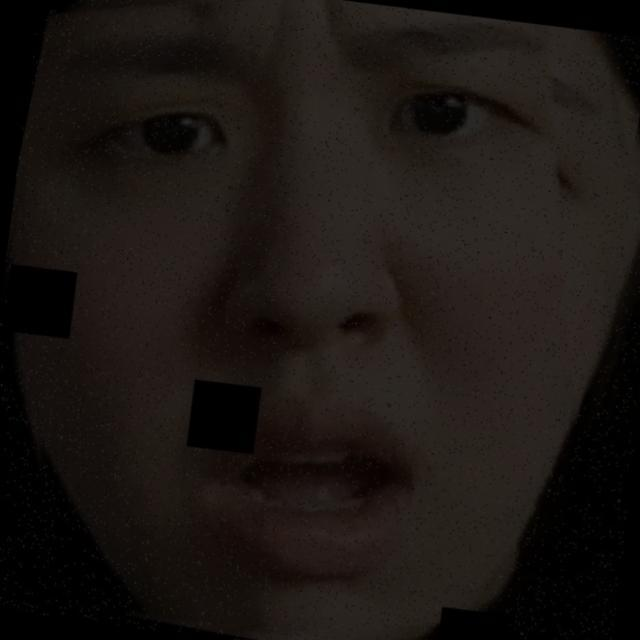Angry: (69, 9, 640, 579)
